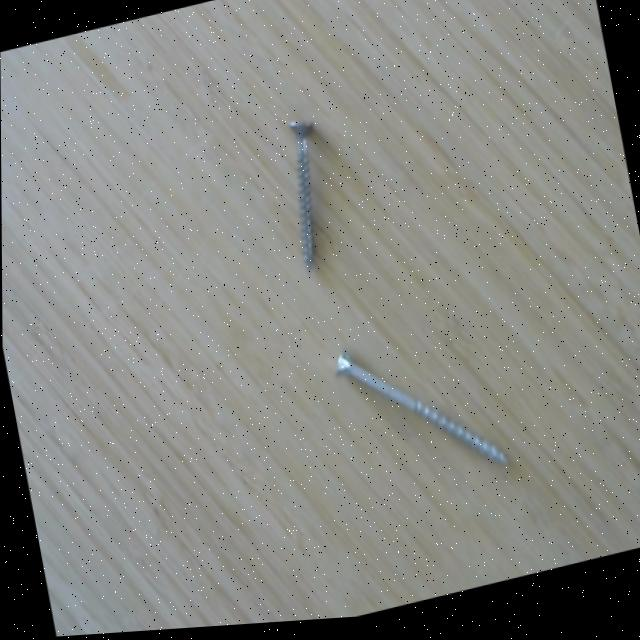Black screw: (288, 122, 320, 277)
Long screw: (329, 346, 521, 488)
